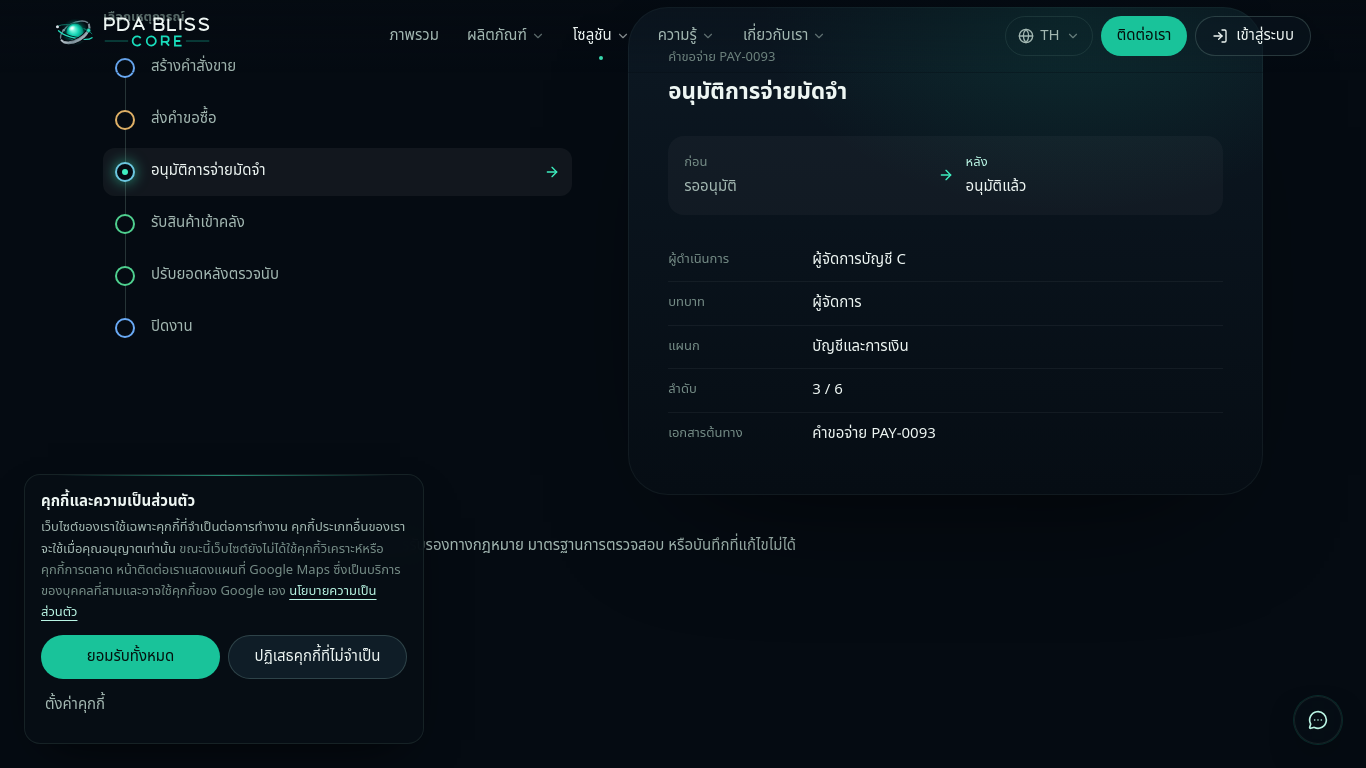
Test: /enterprise page › expands one audit event into who, role, department, before, after, order and source
(page scrolled)
Click the tab "ปรับยอดหลังตรวจนับ". click: (215, 275)
box: [103,252,572,300]
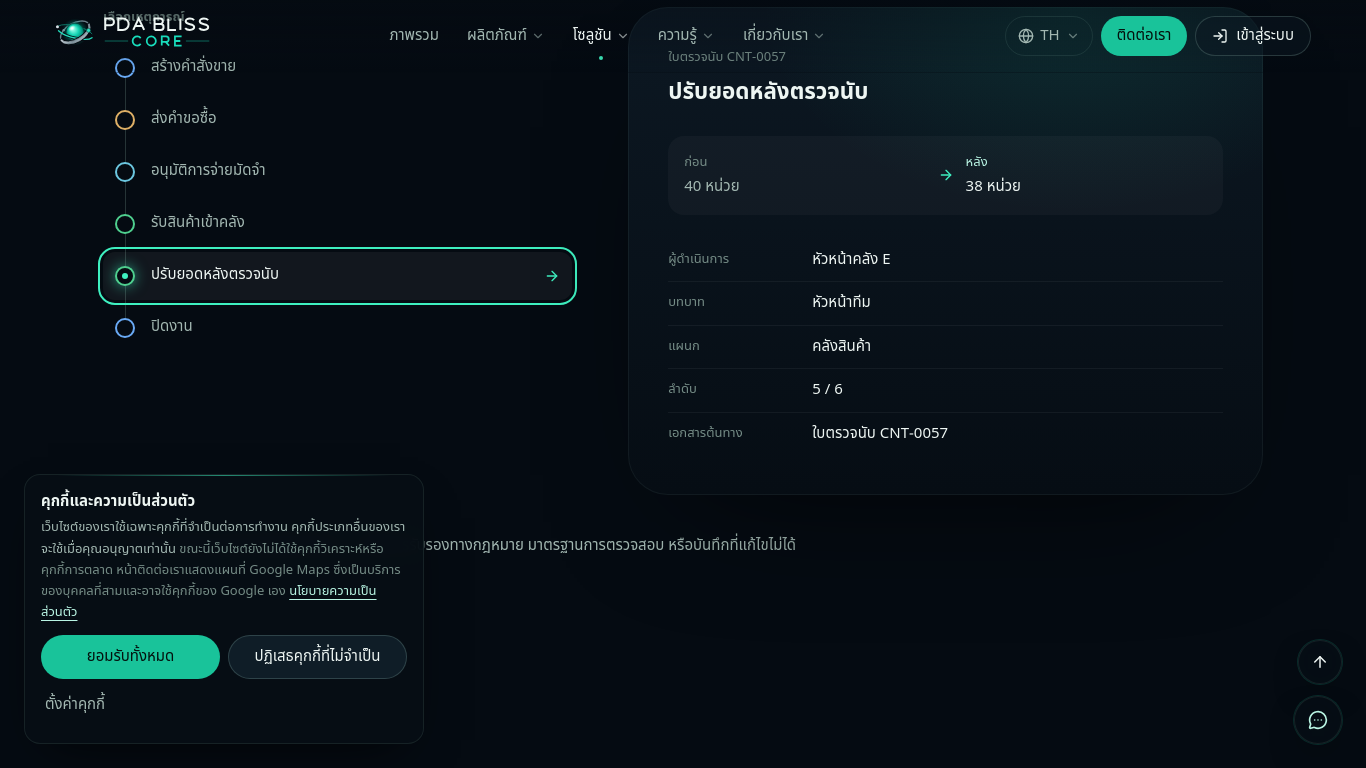
Result: the text "40 หน่วย" is shown at [684,175,740,198]
Result: the text "38 หน่วย" is shown at [966,175,1021,198]
Result: the panel shows "คลังสินค้า" at [812,335,871,358]
